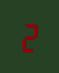two: (19, 19, 37, 53)
